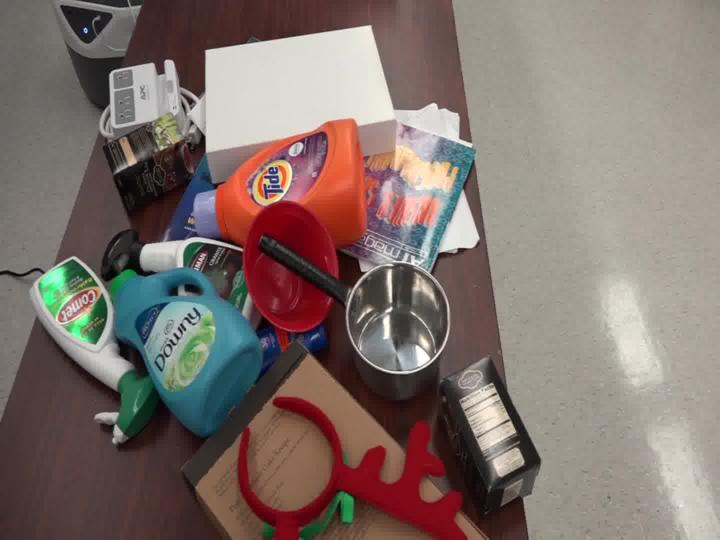downy: (78, 231, 283, 449)
